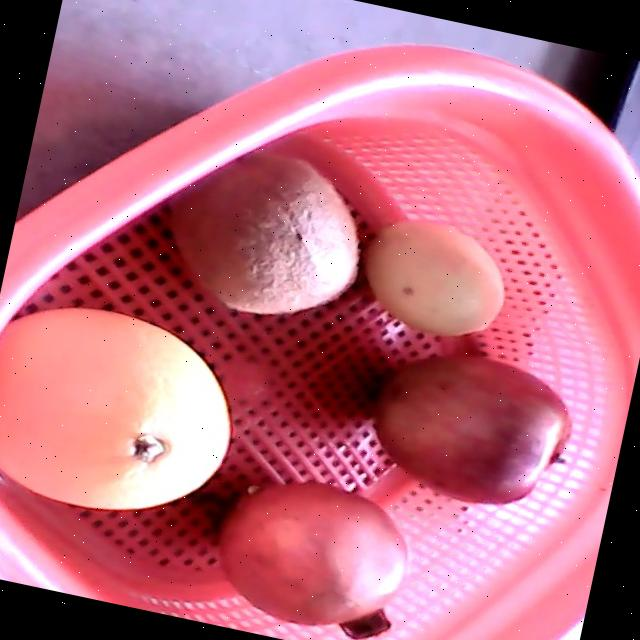apple: (371, 353, 570, 505)
kiwi: (167, 149, 359, 316)
lemon: (362, 220, 504, 336)
orange: (0, 307, 230, 510)
pomegranate: (214, 480, 405, 640)
